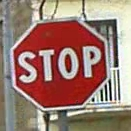stop: (6, 16, 118, 109)
